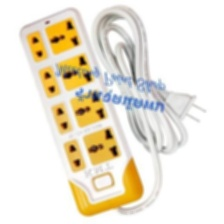three_eye_plug: (14, 5, 148, 220)
